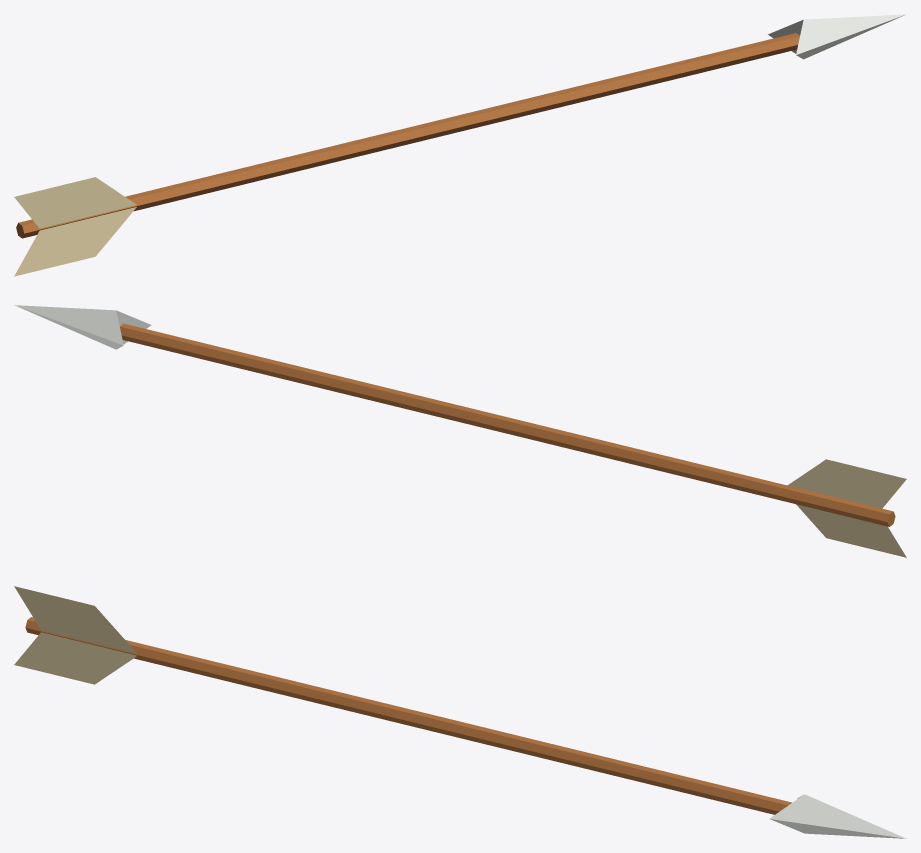
File: arrow.glb
The picture shows the model from 3 angles, top to bottom: view 1: azimuth 30°, elevation 25°; view 2: azimuth 150°, elevation 25°; view 3: azimuth 330°, elevation 25°; orthographic projection.
Visible parts, largest first — view 1: Arrow shaft, Arrow feather, Arrow feather.001, Arrowhead; view 2: Arrow shaft, Arrow feather.001, Arrowhead, Arrow feather; view 3: Arrow shaft, Arrow feather, Arrow feather.001, Arrowhead.
Part boxes in pixels (bbox=[...]): Arrow shaft: bbox=[16, 33, 799, 238]; Arrow feather: bbox=[14, 207, 136, 276]; Arrow feather.001: bbox=[14, 177, 136, 228]; Arrowhead: bbox=[768, 14, 906, 59]; Arrow shaft: bbox=[119, 323, 895, 526]; Arrow feather.001: bbox=[787, 459, 906, 508]; Arrowhead: bbox=[14, 305, 151, 349]; Arrow feather: bbox=[796, 504, 906, 557]; Arrow shaft: bbox=[25, 617, 791, 814]; Arrow feather: bbox=[14, 632, 137, 684]; Arrow feather.001: bbox=[14, 586, 137, 653]; Arrowhead: bbox=[769, 794, 906, 838].
Bounding box in the file's own units: 1.65 × 0.14 × 0.09.
